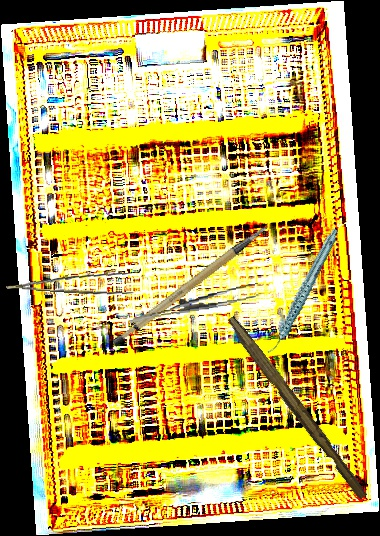Handpiece: (243, 227, 362, 356)
Scalpel Handle: (221, 315, 372, 501), (99, 224, 284, 350)
Tissue Forceps: (127, 283, 261, 323), (6, 264, 138, 298)
